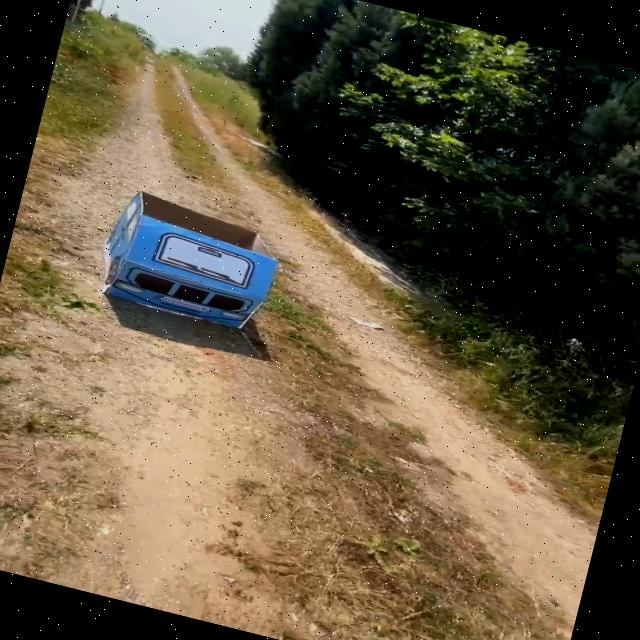blue_car: (60, 163, 346, 369)
